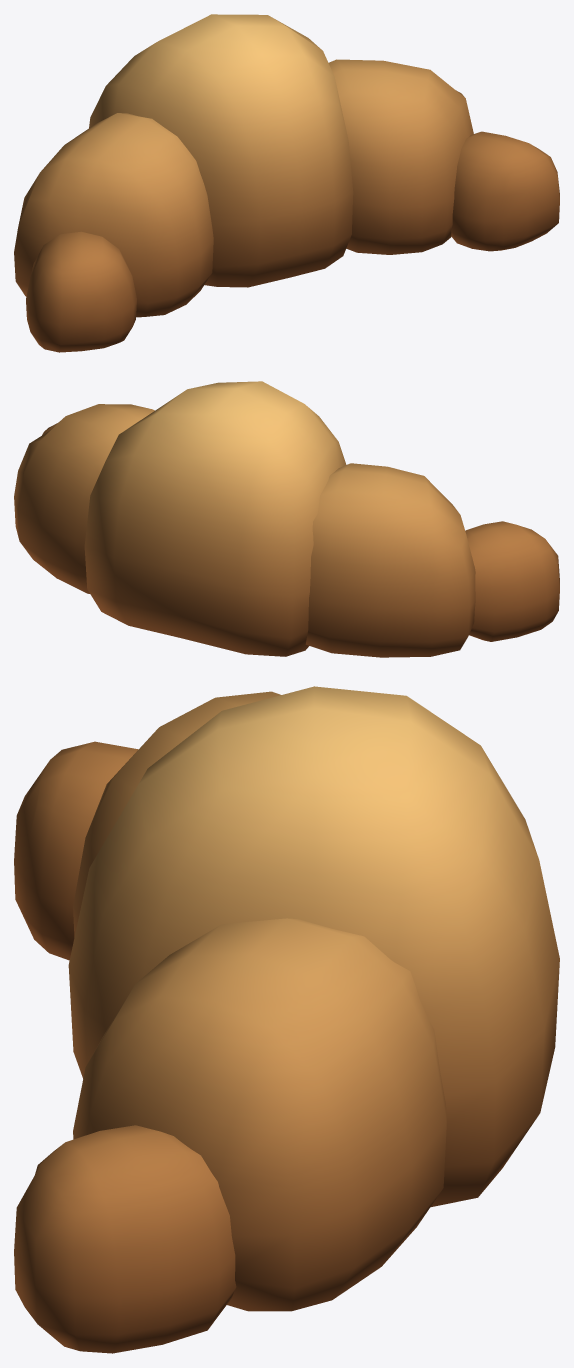
Rendered from Croissant.glb.
3 views of the same model, one above another, from view 1: azimuth 30°, elevation 25°; view 2: azimuth 150°, elevation 25°; view 3: azimuth 270°, elevation 25° (orthographic). The views are drawn at different scales.
Parts seen in each view (by area): view 1: Croissant; view 2: Croissant; view 3: Croissant.
Boxes of the visible parts, x1,y1,x2,y2 form: Croissant: [14, 14, 559, 352]; Croissant: [14, 381, 559, 657]; Croissant: [14, 686, 559, 1353].
Bounding box in the file's own units: 0.5279 × 0.2215 × 0.2542.
Materials: 1 (1 with a texture image).
